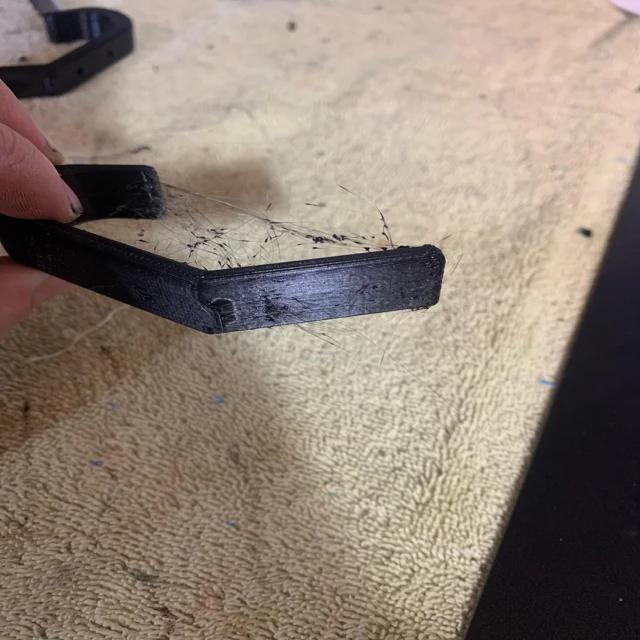Stringing: (109, 194, 385, 270)
